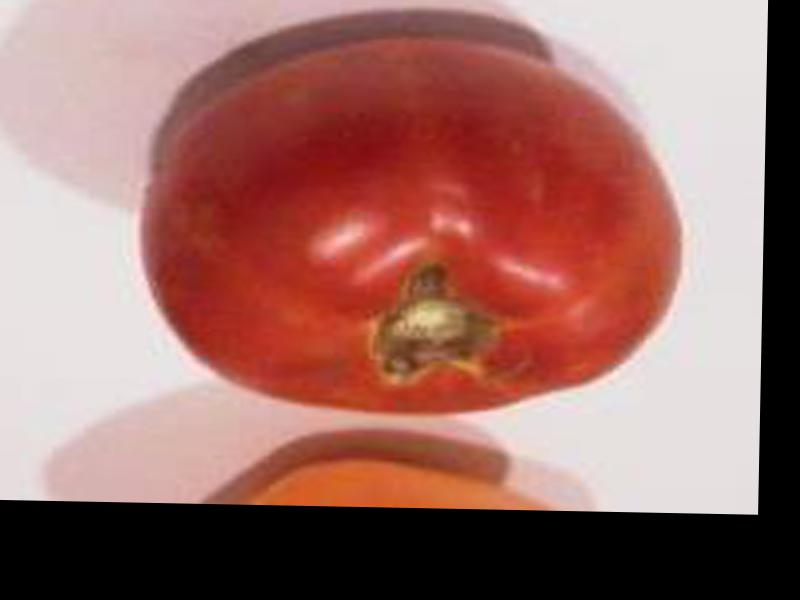Tomato: (143, 37, 686, 417)
